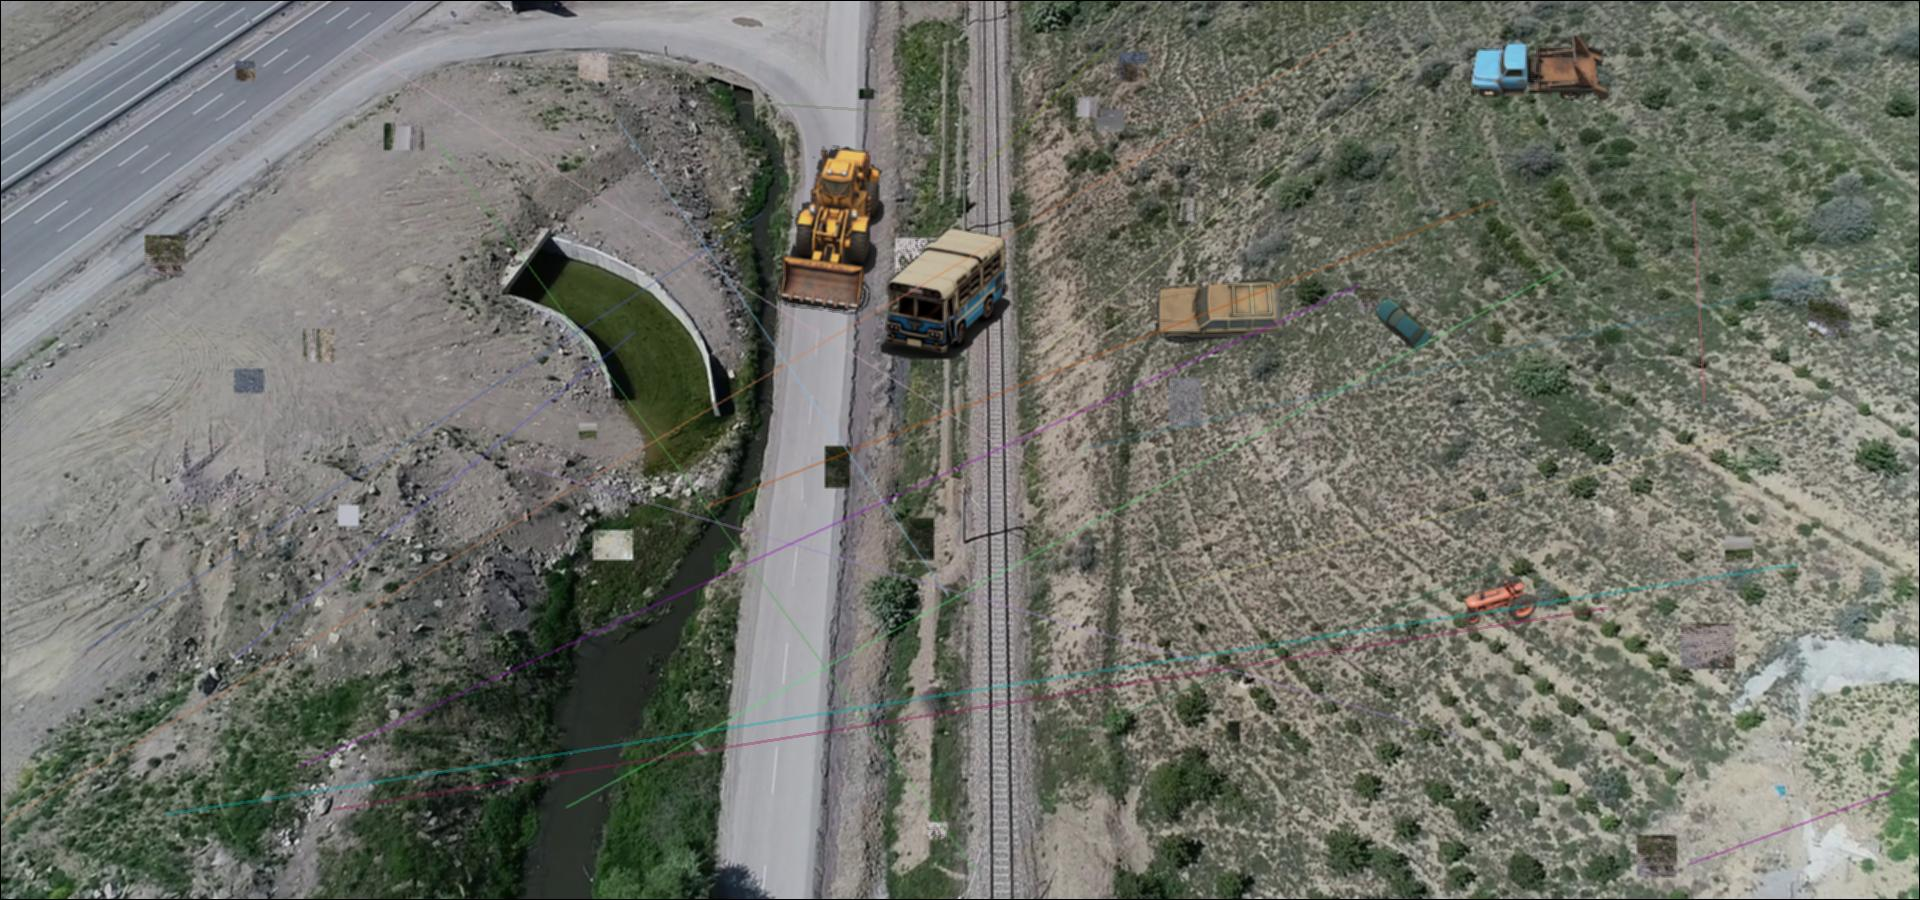arac: (760, 133, 890, 317), (880, 227, 1011, 359), (1471, 36, 1609, 104), (1155, 276, 1287, 347), (1460, 576, 1540, 627), (1373, 296, 1431, 351)
